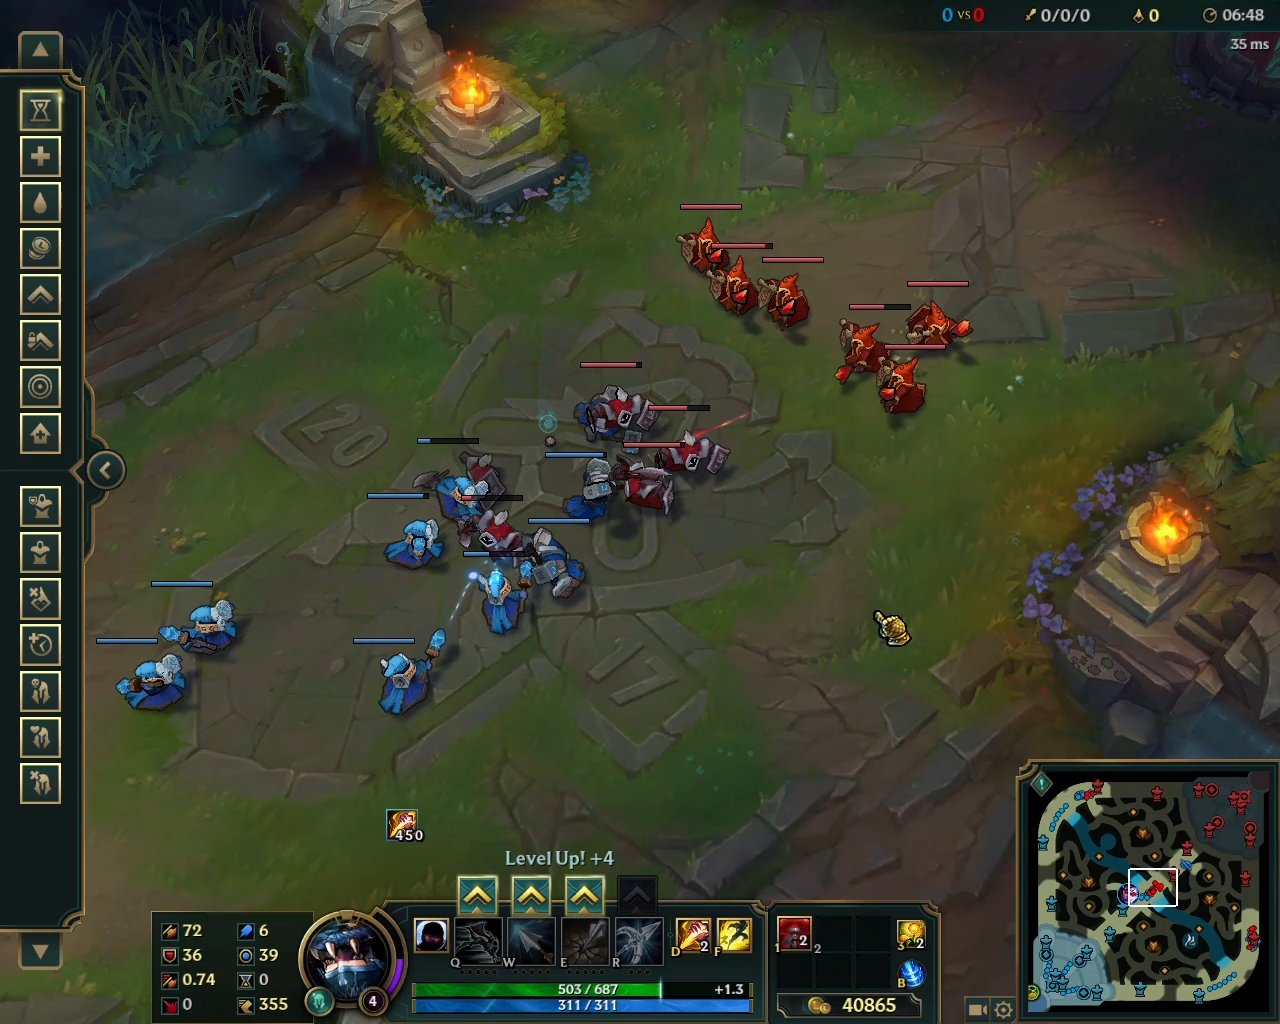EnemyMinion: (578, 360, 664, 441), (649, 404, 732, 480), (835, 303, 910, 385), (867, 344, 947, 417), (902, 278, 975, 355), (754, 256, 824, 335), (614, 441, 686, 515), (453, 495, 525, 571), (705, 242, 772, 320), (674, 204, 740, 274)
